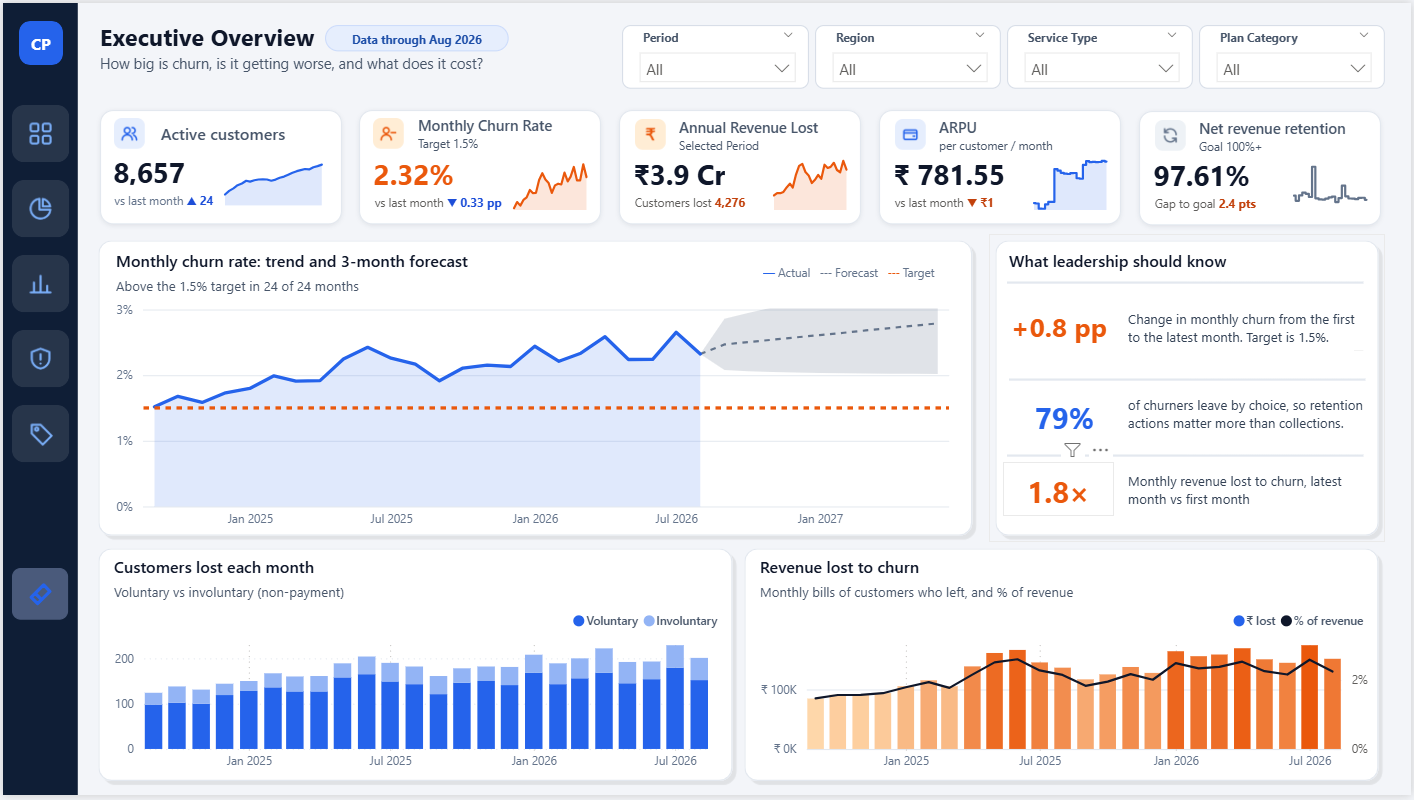

What the dashboard file says about the page in this screenshot:
{"tool":"powerbi","page":{"name":"Overview","canvas":[1280,720],"ordinal":0},"visuals":[{"type":"group","id":"g1","title":"Group 3","box":[0,0,68,720],"z":0,"group":"g15"},{"type":"shape","box":[0,0,68,720],"z":0,"group":"g1"},{"type":"group","id":"g2","title":"Group 5","box":[896,210,360,280],"z":0,"group":"g10"},{"type":"shape","box":[81,490,588,223],"z":0,"group":"g11"},{"type":"shape","box":[14,16,40,40],"z":1000,"group":"g6"},{"type":"textbox","title":"Executive Overview","box":[88,16,240,32],"z":1000,"group":"g14"},{"type":"slicer","fields":{"Values":["Customer_Priority.risk_band"]},"box":[563,20,170,58],"z":1000},{"type":"cardVisual","fields":{"Data":["_Measures.Churn Change Text"]},"box":[916,260,101,66],"z":1000,"group":"g10"},{"type":"columnChart","title":"Customers lost each month","fields":{"Category":["Dim_Date.month_start_date"],"Y":["_Measures.Voluntary Churned","_Measures.Involuntary Churned"]},"box":[101,502,553,200],"z":1000,"group":"g11"},{"type":"slicer","fields":{"Values":["Customer_Priority.region_name"]},"box":[738.3,20,169,58],"z":2000},{"type":"textbox","title":"How big is churn, is it getting worse, and what does it cost?","box":[88.2,46.4,380,21.8],"z":2000,"group":"g14"},{"type":"actionButton","box":[8,92,52,52],"z":2000,"group":"g5"},{"type":"cardVisual","fields":{"Data":["_Measures.Voluntary Share Text"]},"box":[914,350,101,49],"z":2000,"group":"g10"},{"type":"cardVisual","fields":{"Data":["_Measures.Badge Text"]},"box":[292.4,19.3,167.2,23.9],"z":3000,"group":"g14"},{"type":"slicer","fields":{"Values":["Customer_Priority.service_type"]},"box":[912.7,20,169,58],"z":3000},{"type":"actionButton","box":[8,160.2,52,52],"z":3000,"group":"g5"},{"type":"shape","box":[81,210,806,280],"z":3000,"group":"g12"},{"type":"shape","box":[896,210,360,280],"z":3000,"group":"g2"},{"type":"cardVisual","fields":{"Data":["_Measures.Revenue Lost Growth Text"]},"box":[909,417,101,49],"z":3000,"group":"g10"},{"type":"slicer","fields":{"Values":["Customer_Priority.plan_category"]},"box":[1087,20,169,58],"z":4000},{"type":"textbox","title":"What leadership should know","box":[914,224,320,24],"z":4000,"group":"g2"},{"type":"actionButton","box":[8,228.5,52,52],"z":4000,"group":"g5"},{"type":"group","id":"g3","title":"Group 4","box":[87.9,97.4,220,110.5],"z":5000},{"type":"shape","box":[912,248,324,12],"z":5000,"group":"g2"},{"type":"actionButton","box":[8,296.8,52,52],"z":5000,"group":"g5"},{"type":"group","id":"g4","title":"Group 4","box":[321.2,97,222.8,106.3],"z":6000},{"type":"shape","box":[914,336,324,12],"z":6000,"group":"g2"},{"type":"actionButton","box":[8,365,52,52],"z":6000,"group":"g5"},{"type":"group","id":"g5","title":"Group 1","box":[8,92,52,325],"z":6001,"group":"g6"},{"type":"group","id":"g6","title":"Group 2","box":[8,16,52,401],"z":6002,"group":"g1"},{"type":"group","id":"g7","title":"Group 4","box":[557.4,97,223,106],"z":7000},{"type":"shape","box":[912,405,324,12],"z":7000,"group":"g2"},{"type":"group","id":"g8","title":"Group 4","box":[793.7,97,223,106],"z":8000},{"type":"textbox","title":"Change in monthly churn from the first to the latest month. Target is 1.5%.","box":[1024,270,214,56],"z":8000,"group":"g2"},{"type":"group","id":"g9","title":"Group 4","box":[1030,98,223,106],"z":9000},{"type":"textbox","title":"of churners leave by choice, so retention actions matter more than collections.","box":[1024,348,214,56],"z":9000,"group":"g2"},{"type":"group","id":"g10","title":"Group 6","box":[896,210,360,280],"z":10000},{"type":"textbox","title":"Monthly revenue lost to churn, latest month vs first month","box":[1024,426,214,56],"z":10000,"group":"g2"},{"type":"group","id":"g11","title":"Group 7","box":[81,490,588,223],"z":11000},{"type":"group","id":"g12","title":"Group 8","box":[81,210,806,280],"z":12000},{"type":"group","id":"g13","title":"Group 9","box":[668,490,588,223],"z":13000},{"type":"shape","box":[668,490,588,223],"z":13000,"group":"g13"},{"type":"group","id":"g14","title":"Group 11","box":[88,16,380.2,52.2],"z":14000},{"type":"lineChart","title":"Monthly churn rate: trend and 3-month forecast","fields":{"Category":["Dim_Date.month_start_date"],"Y":["_Measures.Churn Rate %"]},"box":[103,224,768,258],"z":14000,"group":"g16"},{"type":"textbox","title":"━ Actual   ┅ Forecast   ┅ Target","box":[691.4,237.9,169.3,19.3],"z":15000,"group":"g16"},{"type":"lineClusteredColumnComboChart","title":"Revenue lost to churn","fields":{"Category":["Dim_Date.month_start_date"],"Y":["_Measures.Revenue Lost to Churn"],"Y2":["_Measures.Revenue Churn %"]},"box":[688,502,553,200],"z":15000,"group":"g13"},{"type":"actionButton","box":[8,514,51,47],"z":15000,"group":"g15"},{"type":"group","id":"g15","title":"Group 12","box":[0,0,68,720],"z":15001},{"type":"shape","box":[324,97,220,104],"z":16000,"group":"g4"},{"type":"shape","box":[560.2,97,220,104],"z":16000,"group":"g7"},{"type":"shape","box":[796.5,97,220,104],"z":16000,"group":"g8"},{"type":"shape","box":[87.9,97.4,220,104],"z":16000,"group":"g3"},{"type":"shape","box":[1032.8,98,220,104],"z":16000,"group":"g9"},{"type":"group","id":"g16","title":"Group 10","box":[103,224,768,258],"z":16001,"group":"g12"},{"type":"cardVisual","fields":{"Data":["_Measures.Active Customers (Latest Month)"]},"box":[88.1,126.9,138.2,80.9],"z":17000,"group":"g3"},{"type":"cardVisual","fields":{"Data":["_Measures.Churn Rate % (Latest Month)"]},"box":[321.2,132.8,166.3,70.5],"z":17000,"group":"g4"},{"type":"cardVisual","fields":{"Data":["_Measures.Annual Revenue Lost Text"]},"box":[557.4,132.8,166.3,70.5],"z":17000,"group":"g7"},{"type":"cardVisual","fields":{"Data":["_Measures.ARPU (Latest Month)"]},"box":[793.7,132.8,166.3,70.5],"z":17000,"group":"g8"},{"type":"cardVisual","fields":{"Data":["_Measures.NRR - Net Revenue Retention %"]},"box":[1030,133.8,166.3,70.5],"z":17000,"group":"g9"},{"type":"image","box":[337,104.5,28,28],"z":18000,"group":"g4"},{"type":"image","box":[100.9,104.9,28,28],"z":18000,"group":"g3"},{"type":"image","box":[575,105.5,28.2,27.6],"z":18000,"group":"g7"},{"type":"image","box":[811.3,105.5,28.2,27.6],"z":18000,"group":"g8"},{"type":"image","box":[1047.6,106.5,28.2,27.6],"z":18000,"group":"g9"},{"type":"textbox","title":"Monthly Churn Rate","box":[377.7,102.8,125.8,32.1],"z":19000,"group":"g4"},{"type":"textbox","title":"Annual Revenue Lost","box":[614.3,104.4,136,31],"z":19000,"group":"g7"},{"type":"textbox","title":"ARPU","box":[850.6,104.4,136,31],"z":19000,"group":"g8"},{"type":"textbox","title":"Net revenue retention","box":[1086.9,105.4,136,31],"z":19000,"group":"g9"},{"type":"textbox","title":"Active customers","box":[129,108.7,141.8,19.1],"z":19000,"group":"g3"},{"type":"lineChart","fields":{"Category":["Dim_Date.month_start_date"],"Y":["_Measures.Churn Rate %"]},"box":[455.2,125.2,85.9,62.7],"z":20000,"group":"g4"},{"type":"lineChart","fields":{"Category":["Dim_Date.month_start_date"],"Y":["_Measures.Revenue Lost to Churn"]},"box":[691.4,125.2,85.9,62.7],"z":20000,"group":"g7"},{"type":"lineChart","fields":{"Category":["Dim_Date.month_start_date"],"Y":["_Measures.ARPU"]},"box":[927.7,125.2,85.9,62.7],"z":20000,"group":"g8"},{"type":"lineChart","fields":{"Category":["Dim_Date.month_start_date"],"Y":["_Measures.NRR - Net Revenue Retention %"]},"box":[1164,126.2,85.9,62.7],"z":20000,"group":"g9"},{"type":"lineChart","fields":{"Category":["Dim_Date.month_start_date"],"Y":["_Measures.Customer Months"]},"box":[191.8,130.6,108.1,54.4],"z":20000,"group":"g3"}]}

Visuals, with their boxes on the page's 1280x720 design canvas (x1, y1, x2, y2). These are canvas units, not pixel positions in the 1414x800 screenshot, which may show the page scaled, cropped or inside an application window:
"Group 3" group: 0 0 68 720
shape: 0 0 68 720
"Group 5" group: 896 210 1256 490
shape: 81 490 669 713
shape: 14 16 54 56
"Executive Overview" textbox: 88 16 328 48
slicer - Customer_Priority.risk_band: 563 20 733 78
cardVisual - _Measures.Churn Change Text: 916 260 1017 326
"Customers lost each month" columnChart: 101 502 654 702
slicer - Customer_Priority.region_name: 738 20 907 78
"How big is churn, is it getting worse, and what does it cost?" textbox: 88 46 468 68
actionButton: 8 92 60 144
cardVisual - _Measures.Voluntary Share Text: 914 350 1015 399
cardVisual - _Measures.Badge Text: 292 19 460 43
slicer - Customer_Priority.service_type: 913 20 1082 78
actionButton: 8 160 60 212
shape: 81 210 887 490
shape: 896 210 1256 490
cardVisual - _Measures.Revenue Lost Growth Text: 909 417 1010 466
slicer - Customer_Priority.plan_category: 1087 20 1256 78
"What leadership should know" textbox: 914 224 1234 248
actionButton: 8 228 60 280
"Group 4" group: 88 97 308 208
shape: 912 248 1236 260
actionButton: 8 297 60 349
"Group 4" group: 321 97 544 203
shape: 914 336 1238 348
actionButton: 8 365 60 417
"Group 1" group: 8 92 60 417
"Group 2" group: 8 16 60 417
"Group 4" group: 557 97 780 203
shape: 912 405 1236 417
"Group 4" group: 794 97 1017 203
"Change in monthly churn from the first to the latest month. Target is 1.5%." textbox: 1024 270 1238 326
"Group 4" group: 1030 98 1253 204
"of churners leave by choice, so retention actions matter more than collections." textbox: 1024 348 1238 404
"Group 6" group: 896 210 1256 490
"Monthly revenue lost to churn, latest month vs first month" textbox: 1024 426 1238 482
"Group 7" group: 81 490 669 713
"Group 8" group: 81 210 887 490
"Group 9" group: 668 490 1256 713
shape: 668 490 1256 713
"Group 11" group: 88 16 468 68
"Monthly churn rate: trend and 3-month forecast" lineChart: 103 224 871 482
"━ Actual   ┅ Forecast   ┅ Target" textbox: 691 238 861 257
"Revenue lost to churn" lineClusteredColumnComboChart: 688 502 1241 702
actionButton: 8 514 59 561
"Group 12" group: 0 0 68 720
shape: 324 97 544 201
shape: 560 97 780 201
shape: 796 97 1016 201
shape: 88 97 308 201
shape: 1033 98 1253 202
"Group 10" group: 103 224 871 482
cardVisual - _Measures.Active Customers (Latest Month): 88 127 226 208
cardVisual - _Measures.Churn Rate % (Latest Month): 321 133 488 203
cardVisual - _Measures.Annual Revenue Lost Text: 557 133 724 203
cardVisual - _Measures.ARPU (Latest Month): 794 133 960 203
cardVisual - _Measures.NRR - Net Revenue Retention %: 1030 134 1196 204
image: 337 104 365 132
image: 101 105 129 133
image: 575 106 603 133
image: 811 106 840 133
image: 1048 106 1076 134
"Monthly Churn Rate" textbox: 378 103 504 135
"Annual Revenue Lost" textbox: 614 104 750 135
"ARPU" textbox: 851 104 987 135
"Net revenue retention" textbox: 1087 105 1223 136
"Active customers" textbox: 129 109 271 128
lineChart - Dim_Date.month_start_date x _Measures.Churn Rate %: 455 125 541 188
lineChart - Dim_Date.month_start_date x _Measures.Revenue Lost to Churn: 691 125 777 188
lineChart - Dim_Date.month_start_date x _Measures.ARPU: 928 125 1014 188
lineChart - Dim_Date.month_start_date x _Measures.NRR - Net Revenue Retention %: 1164 126 1250 189
lineChart - Dim_Date.month_start_date x _Measures.Customer Months: 192 131 300 185
